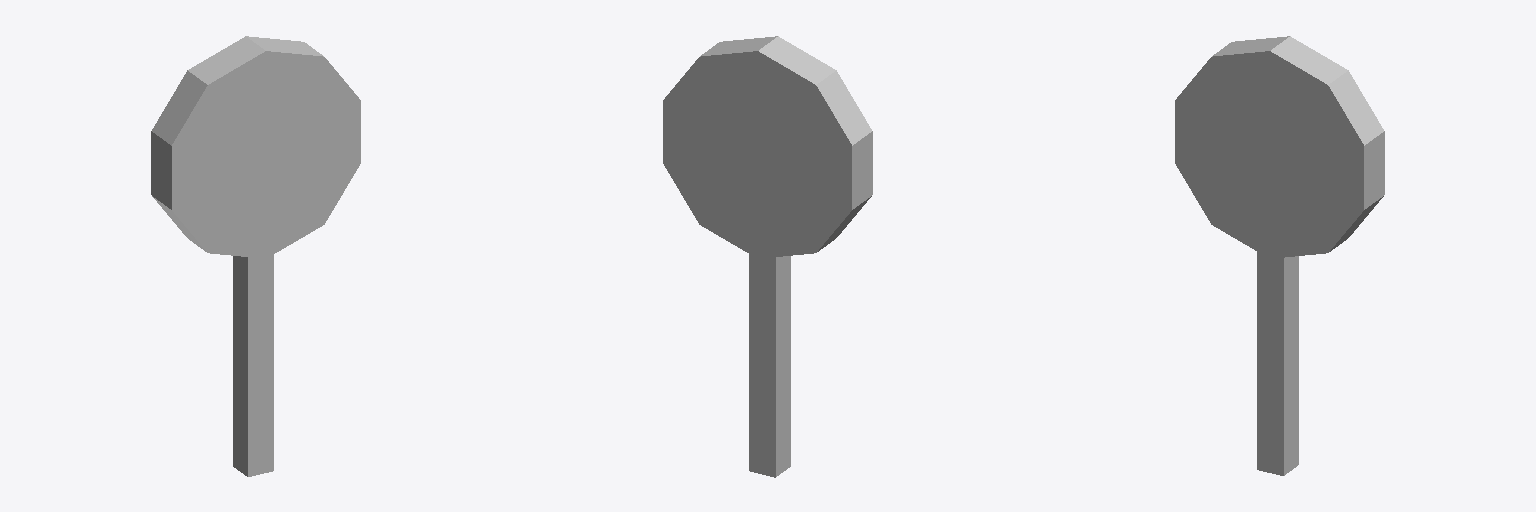
Rendered from obstacle_8.obj.
The picture shows the model from 3 angles: view 1: azimuth 30°, elevation 25°; view 2: azimuth 150°, elevation 25°; view 3: azimuth 330°, elevation 25°; orthographic projection.
Parts seen in each view (by area): view 1: Cube_Cube.006; view 2: Cube_Cube.006; view 3: Cube_Cube.006.
Boxes of the visible parts, <box> form: Cube_Cube.006: <box>151,36,360,476</box>; Cube_Cube.006: <box>663,36,872,477</box>; Cube_Cube.006: <box>1175,36,1384,475</box>.
Bounding box in the file's own units: 1.9 × 4.09 × 0.3531.